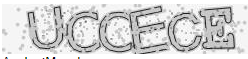C: (98, 10, 133, 53), (66, 10, 100, 53), (167, 12, 202, 53)
E: (129, 5, 169, 55), (199, 6, 236, 52)
U: (27, 5, 65, 50)
